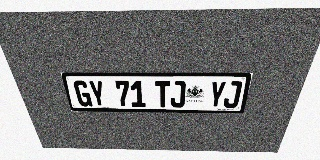1: (129, 81, 146, 107)
7: (114, 81, 131, 107)
G: (73, 80, 93, 107)
J: (223, 81, 243, 108), (170, 81, 186, 107)
T: (155, 81, 170, 107)
Y: (208, 81, 227, 108), (88, 81, 107, 107)
